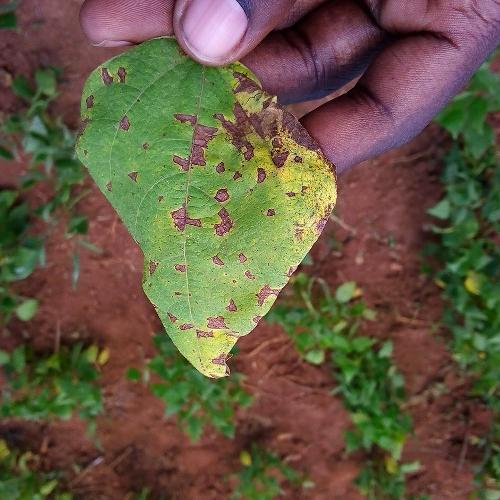hawar: (155, 117, 301, 255), (97, 55, 148, 184), (168, 258, 251, 331), (311, 156, 341, 236)
